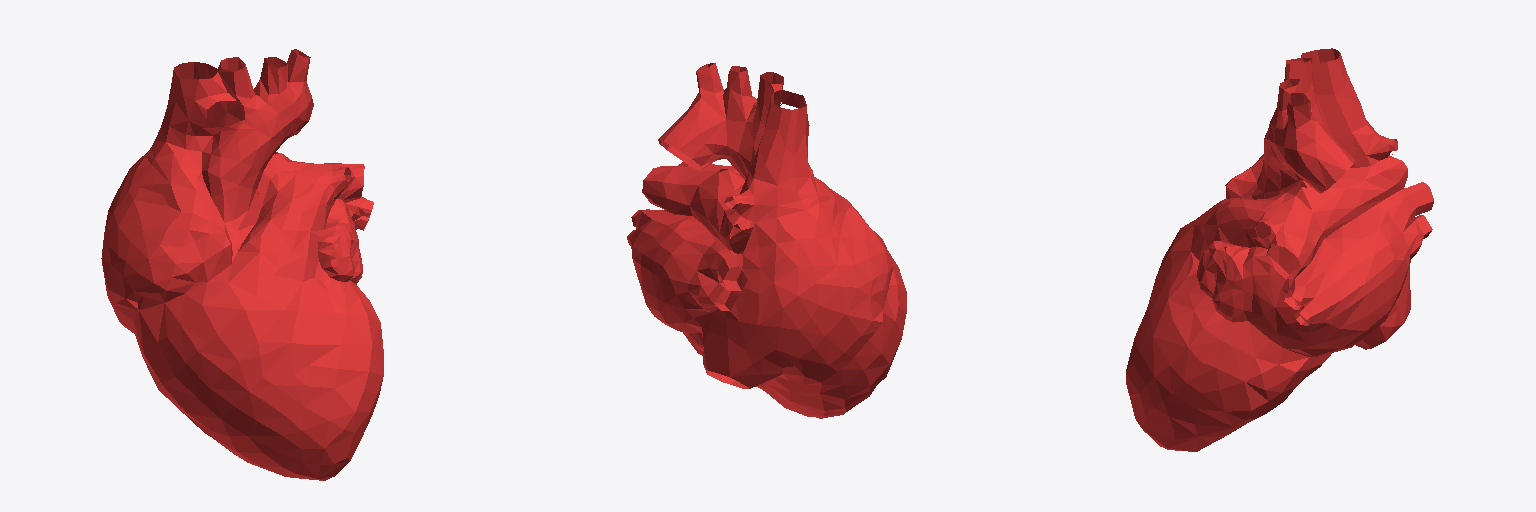
The model's file is heart.obj.
3 renders of one model, left to right at view 1: azimuth 30°, elevation 25°; view 2: azimuth 150°, elevation 25°; view 3: azimuth 270°, elevation 25°, orthographic.
Size of the model in its own units: 5.82 by 8.3 by 6.09.